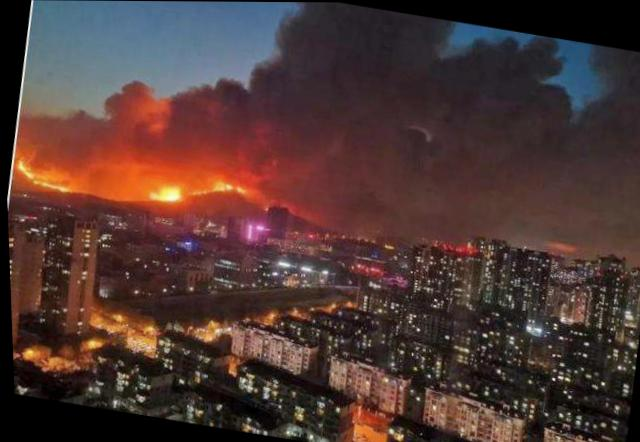fire: (139, 162, 252, 212), (10, 154, 88, 197)
